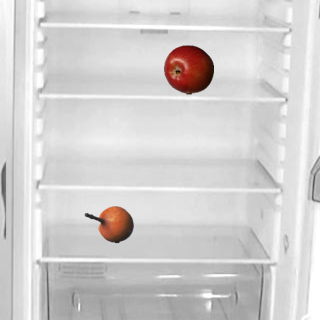Apple Braeburn: (163, 44, 213, 94)
Granadilla: (83, 199, 133, 249)
